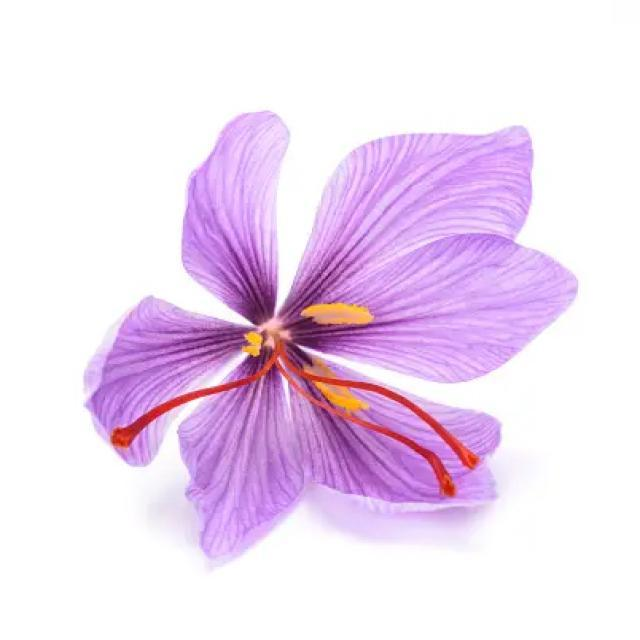Flower: (135, 145, 532, 553)
stigma: (282, 343, 490, 475), (282, 376, 463, 514), (111, 345, 281, 451)
